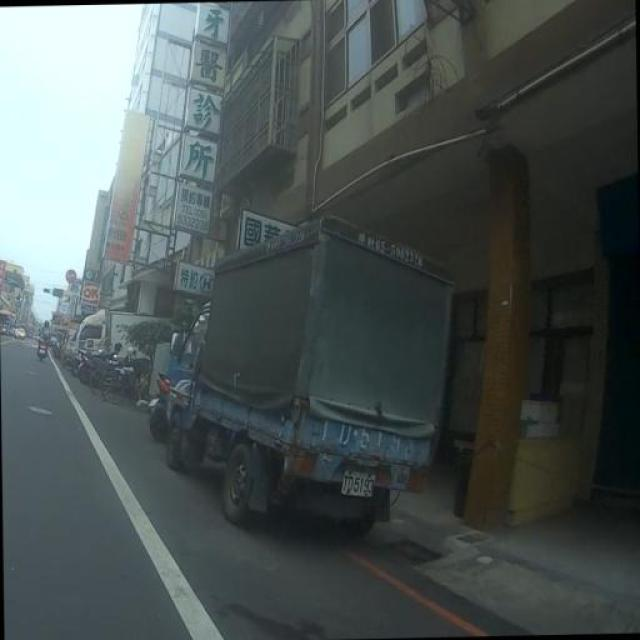illegalparking: (149, 211, 489, 554)
